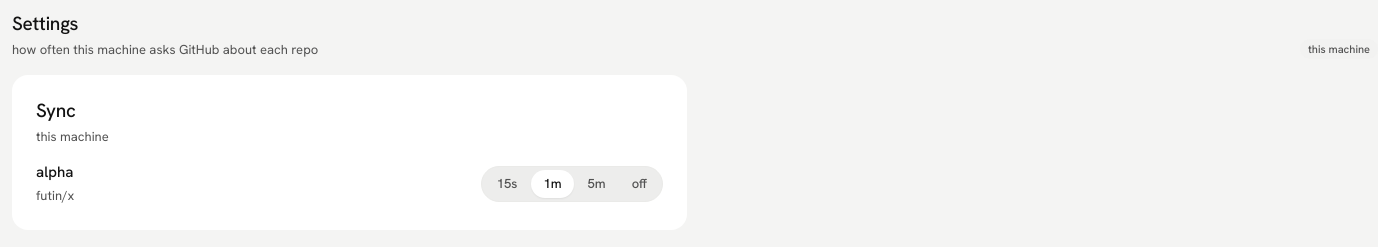
Test: GitHub › Settings: the sync card › leaves the old value selected on a 409 and shows the refusal in place of the repo hint
Expected: the text "alpha" is shown, [36,162,73,182]
Click the button "off" at [639, 184], box [620,170,659,198]
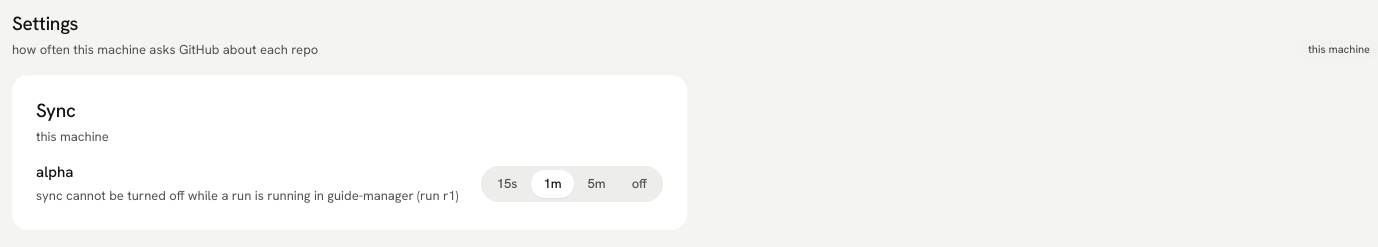
Expected: the text "sync cannot be turned off while a run is running in guide-manager (run r1)" is shown, [36,187,465,206]
